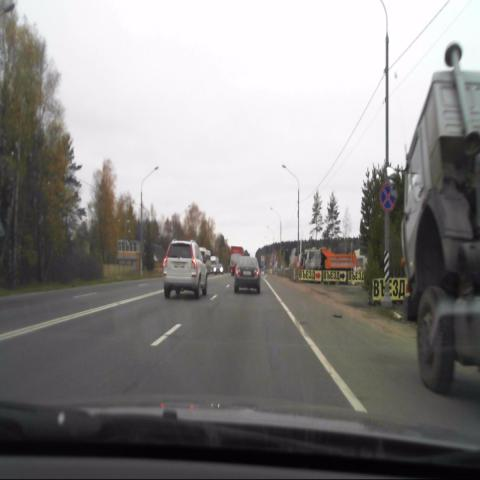3_27: (380, 178, 397, 214)
